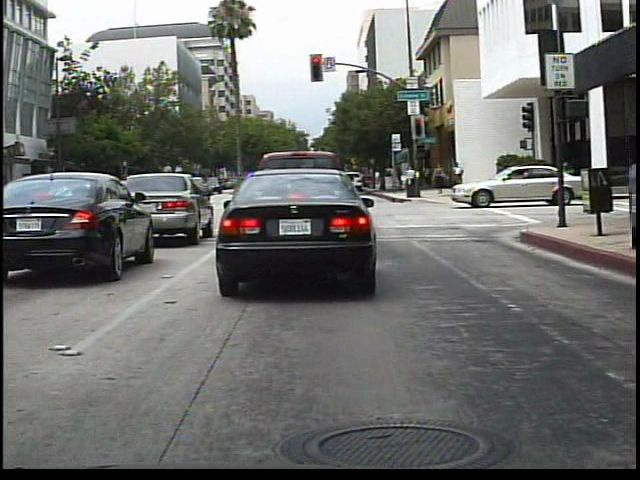person: (496, 156, 518, 200), (430, 158, 448, 196), (450, 160, 465, 188)
